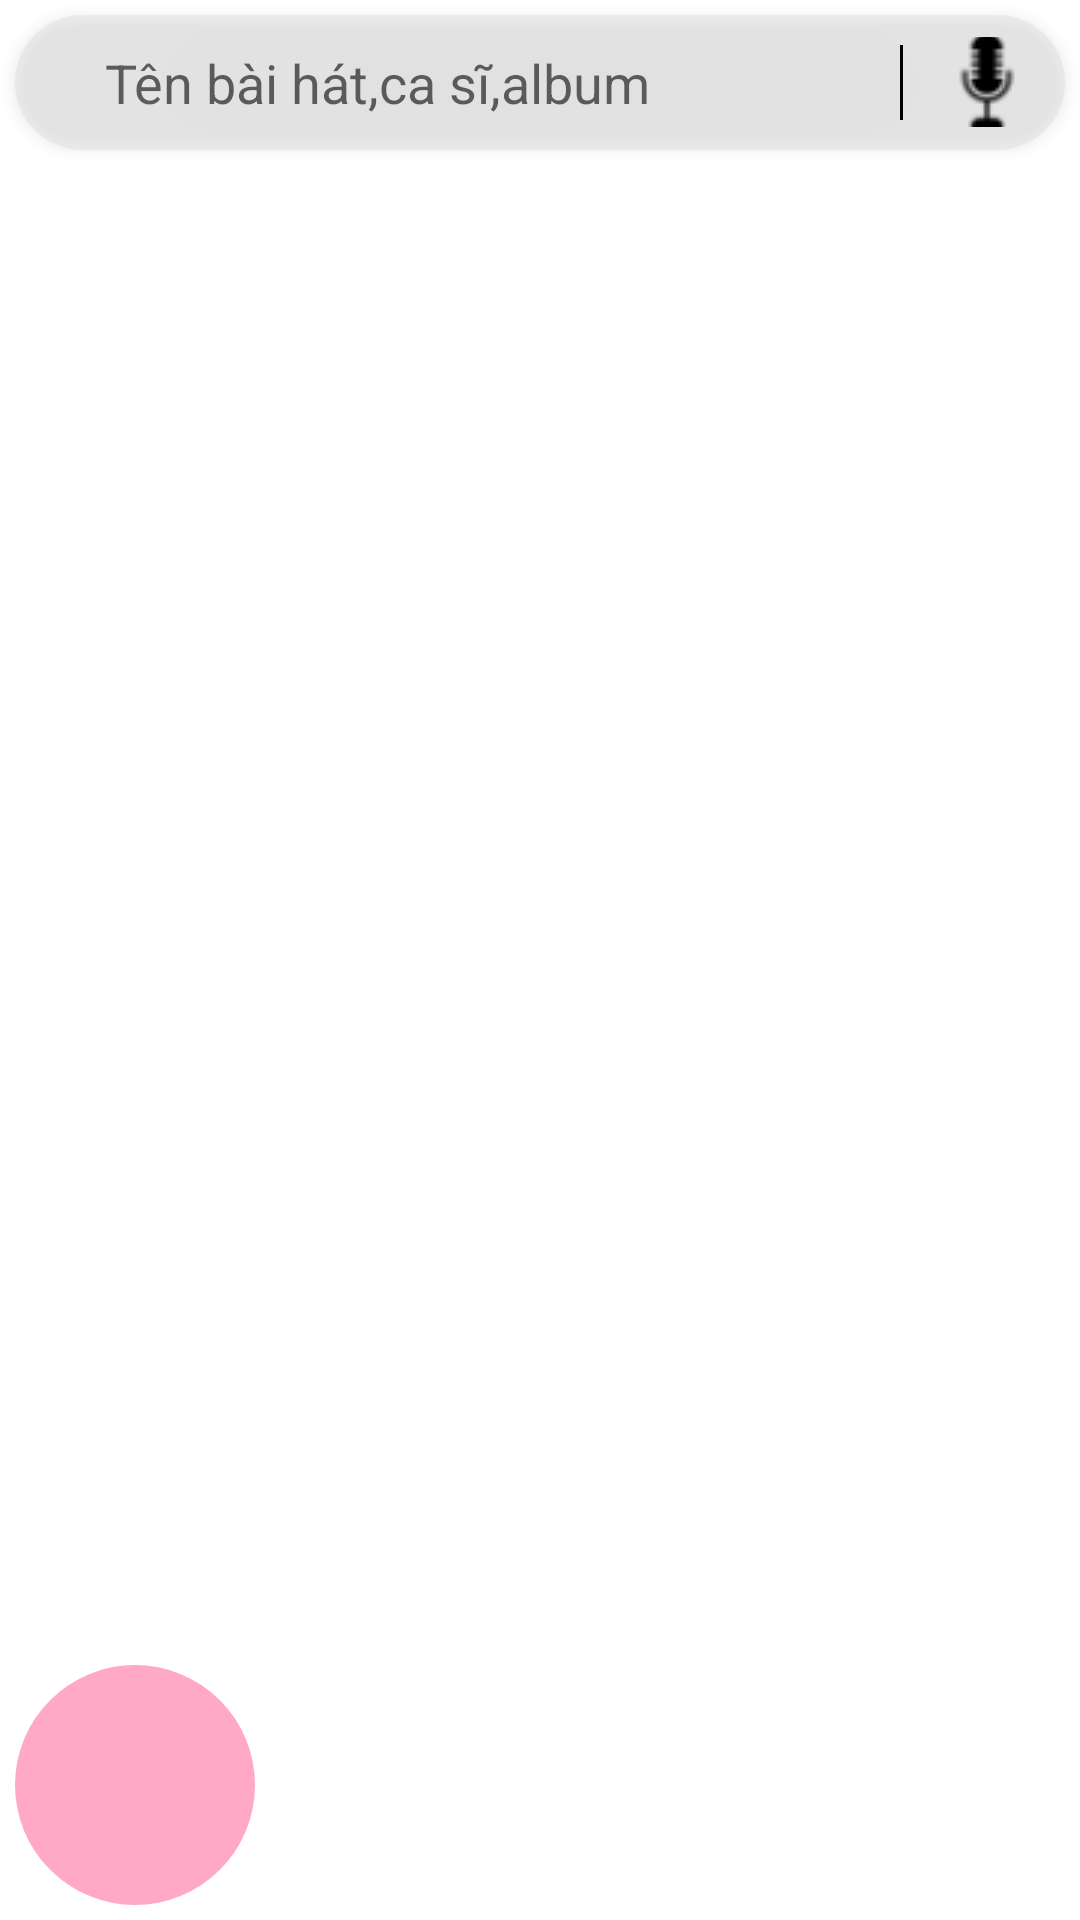

Where to tap for icons on this 1080px x 1920px app screen, as point (x, y):
microphone: point (987, 82)
